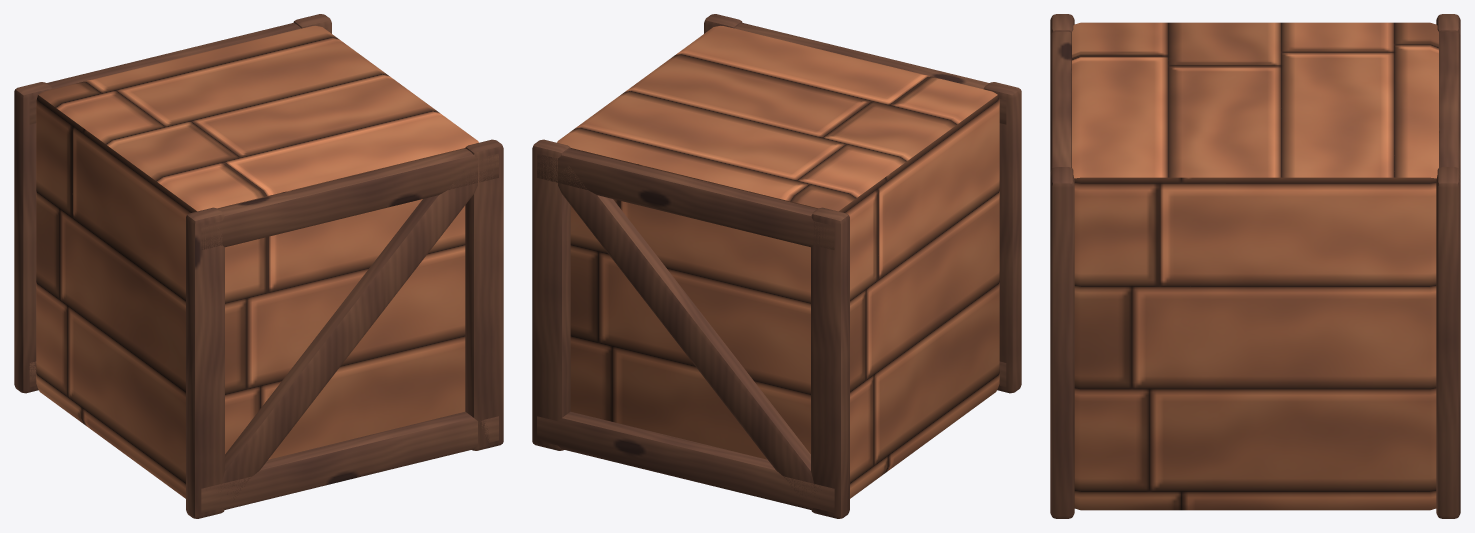
The model's file is crate.gltf.
3 views of the same model, side by side, from view 1: azimuth 30°, elevation 25°; view 2: azimuth 150°, elevation 25°; view 3: azimuth 270°, elevation 25° (orthographic). The views are drawn at different scales.
Visible parts, largest first — view 1: crate_mesh; view 2: crate_mesh; view 3: crate_mesh.
Boxes of the visible parts, left/top/right/bottom form: crate_mesh: left=14, top=14, right=503, bottom=518; crate_mesh: left=532, top=14, right=1021, bottom=518; crate_mesh: left=1050, top=14, right=1460, bottom=518.
Size of what is drawn, in the model's own units: 0.67 by 0.62 by 0.68.
Materials: 2 (2 with a texture image).
